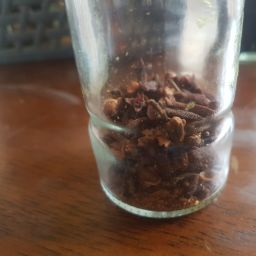Cloves: (91, 48, 238, 214)
